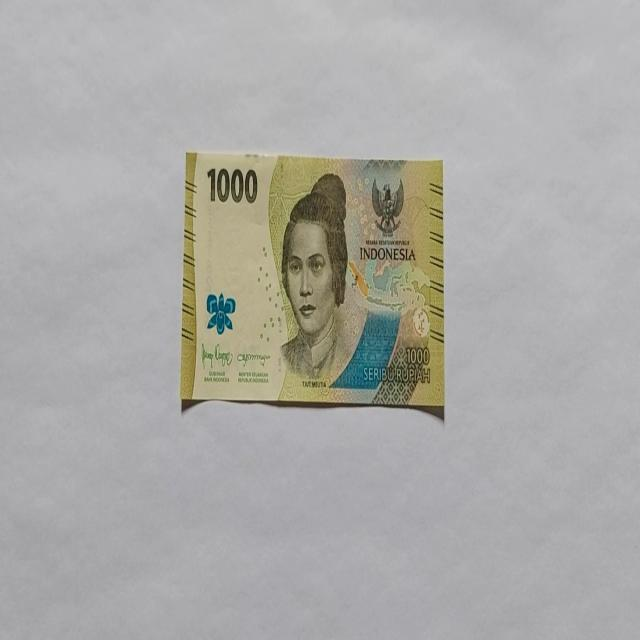seribu rupiah kertas: (180, 150, 444, 412)
